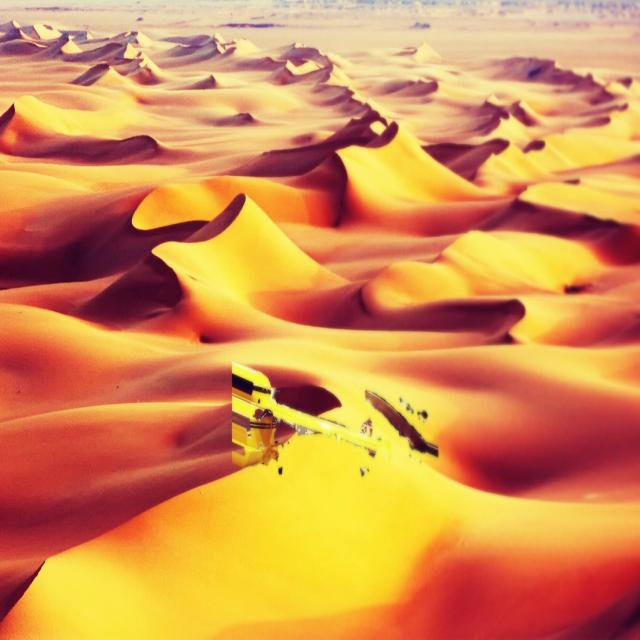airplane: (230, 359, 376, 468)
